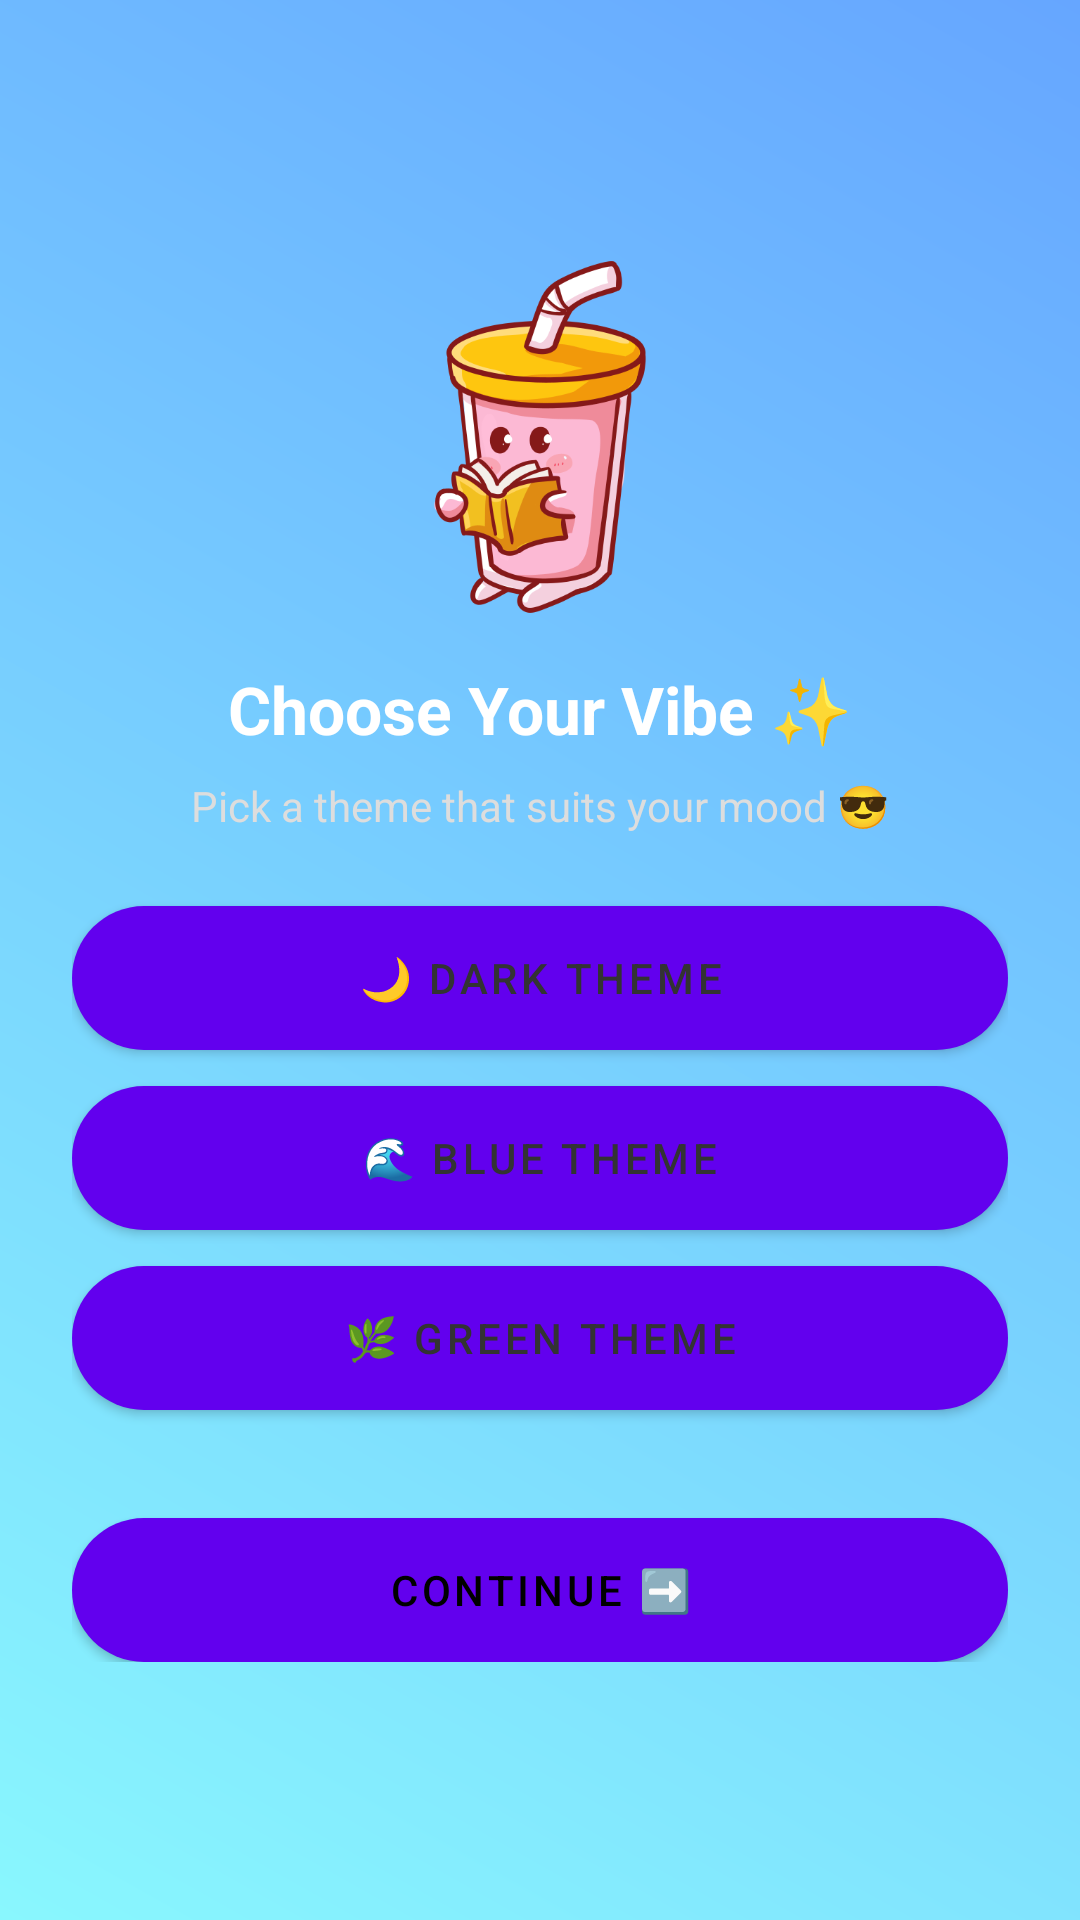

Where icons sit on this 1080×1920 app screen, as (x1, y1, x2, y2):
Mascot: (434, 261, 646, 613)
